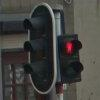traffic lights: (57, 33, 84, 83)
